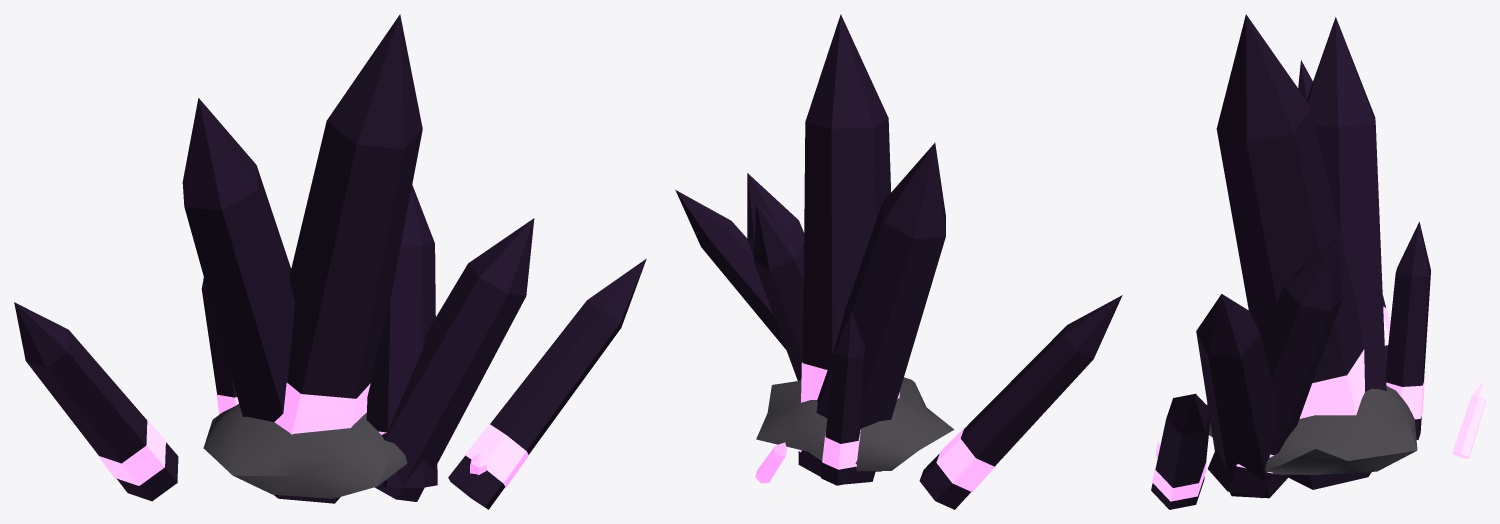
File: crystal_cluster_a.glb
The picture shows the model from 3 angles, left to right: view 1: azimuth 30°, elevation 25°; view 2: azimuth 150°, elevation 25°; view 3: azimuth 270°, elevation 25°; orthographic projection. The views are drawn at different scales.
Parts seen in each view (by area): view 1: crystal_cluster_a; view 2: crystal_cluster_a; view 3: crystal_cluster_a.
Boxes of the visible parts, <box> form: crystal_cluster_a: <box>14,14,646,509</box>; crystal_cluster_a: <box>675,14,1122,509</box>; crystal_cluster_a: <box>1151,14,1485,509</box>.
Bounding box in the file's own units: 5.22 × 4.23 × 2.66.
